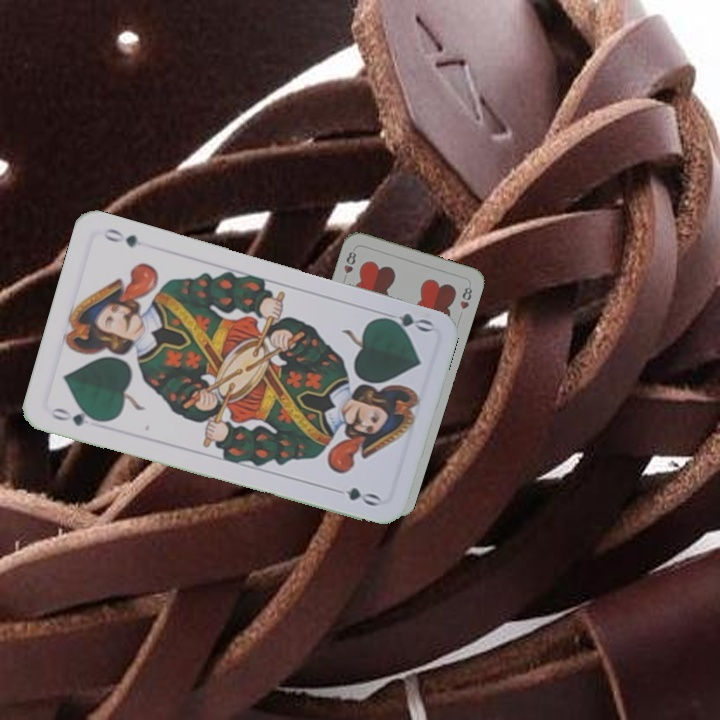GO: (375, 307, 435, 335), (47, 403, 105, 429)
H8: (340, 247, 359, 276)
